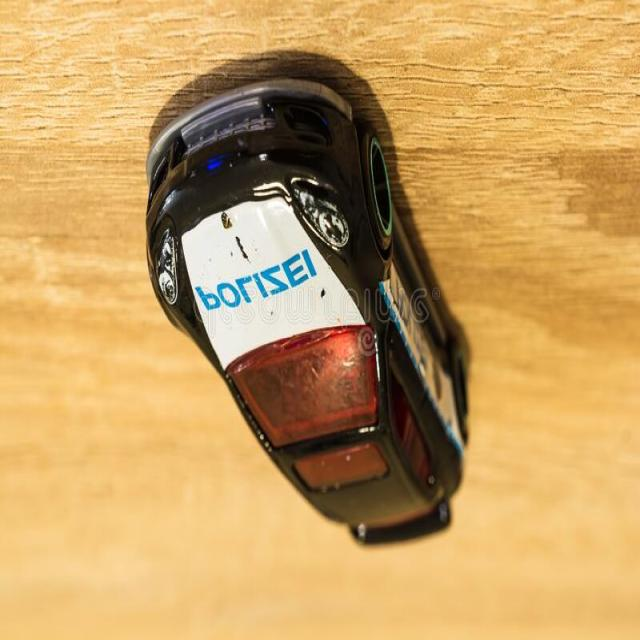Car: (144, 77, 470, 552)
